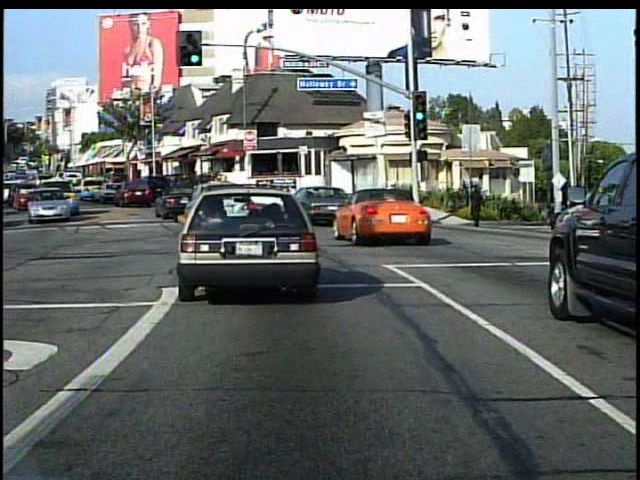person: (555, 183, 579, 245), (464, 182, 486, 229)
